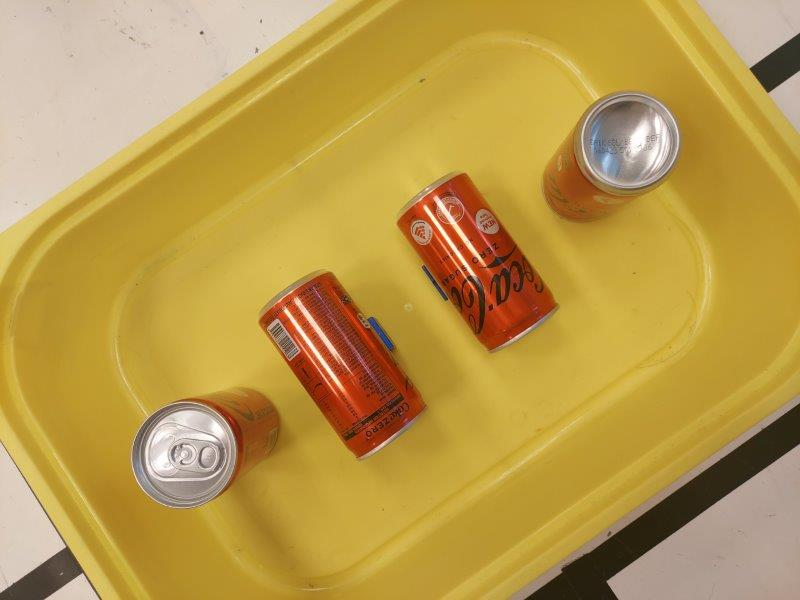Coke: (258, 268, 426, 461), (397, 171, 560, 355), (132, 387, 279, 511), (540, 91, 679, 221)
